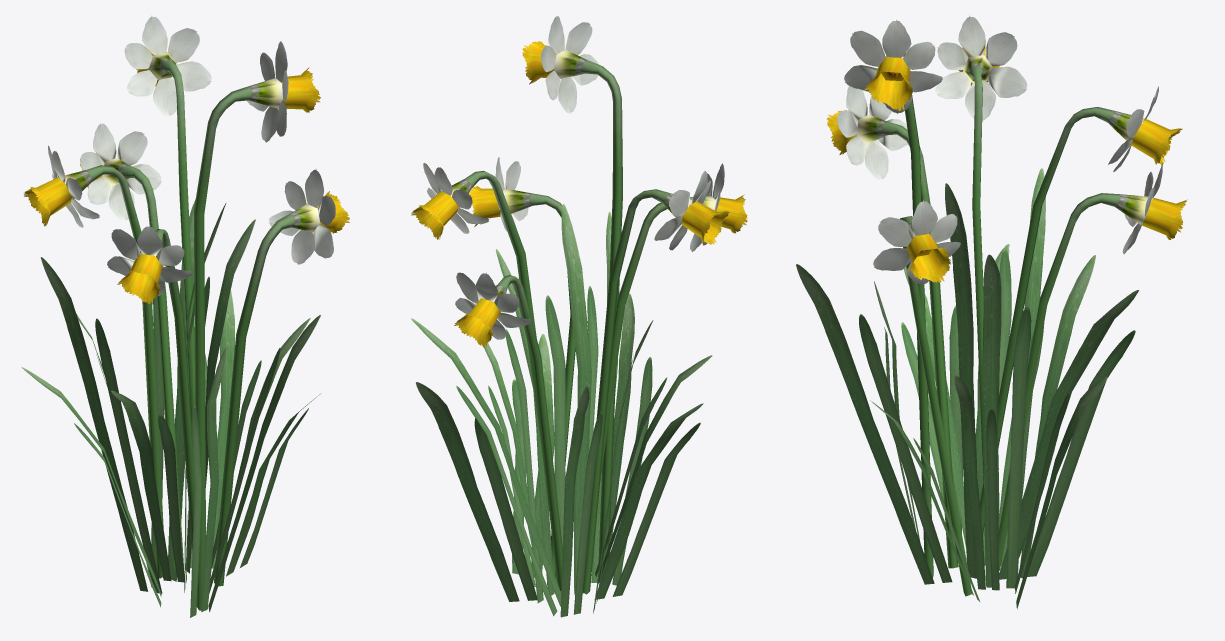
File: Narcissus3B.fbx
3 renders of one model, left to right at view 1: azimuth 30°, elevation 25°; view 2: azimuth 150°, elevation 25°; view 3: azimuth 270°, elevation 25°, orthographic. The views are drawn at different scales.
Visible parts, largest first — view 1: Narcissus3B_LOD0; view 2: Narcissus3B_LOD0; view 3: Narcissus3B_LOD0.
Part boxes in pixels (x1=…): Narcissus3B_LOD0: x1=21, y1=15, x2=349, y2=617; Narcissus3B_LOD0: x1=411, y1=16, x2=747, y2=617; Narcissus3B_LOD0: x1=796, y1=15, x2=1187, y2=609.
Size of what is drawn, in the model's own units: 41.75 by 74.23 by 48.3.
